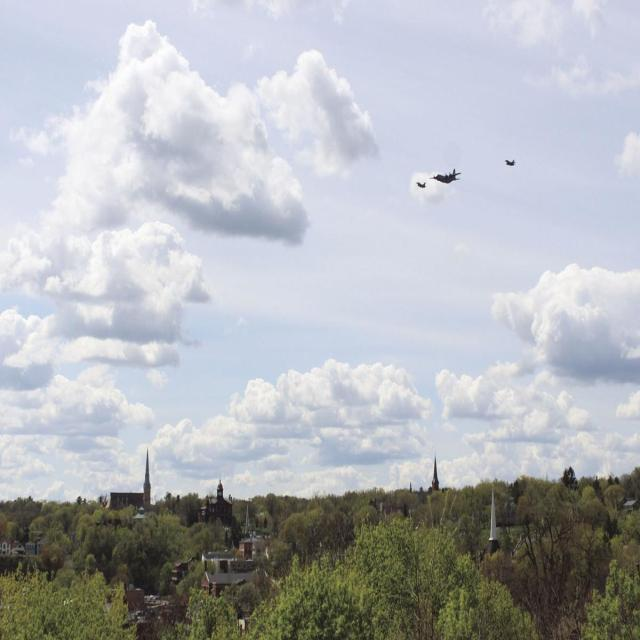MIL_Plane: (109, 168, 141, 184), (504, 158, 516, 166), (416, 181, 426, 188)
